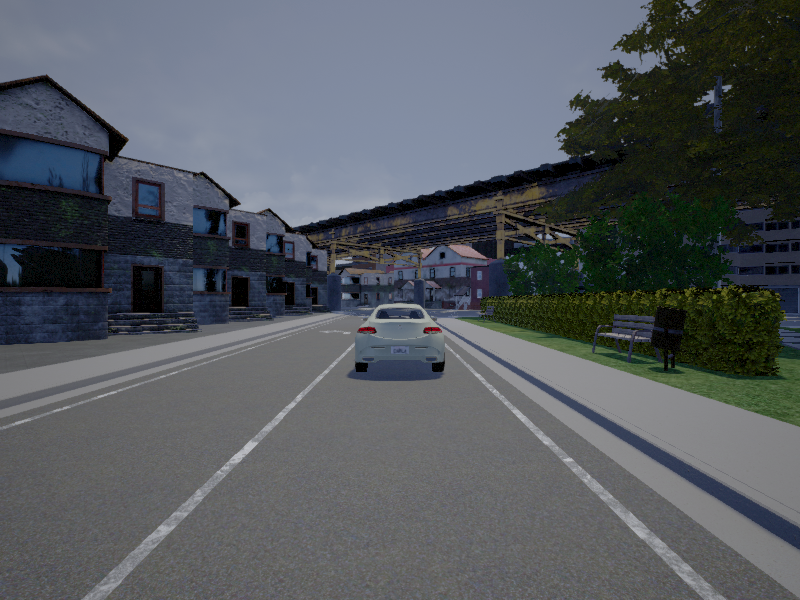Benign: (353, 304, 447, 372)
